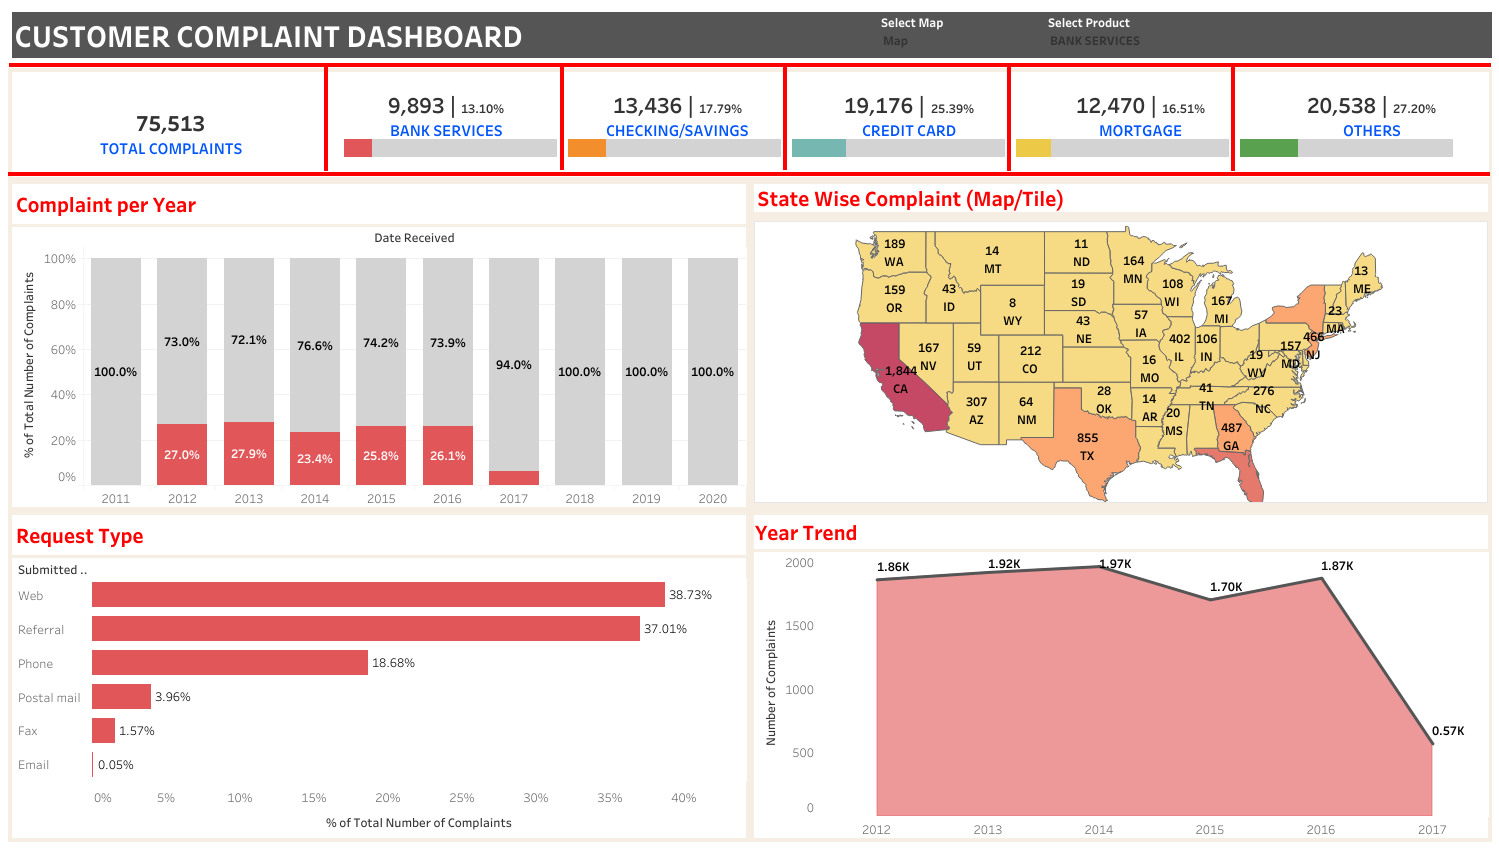

The dashboard page shown, as its layout file describes it:
{"tool":"tableau","page":{"name":"Dashboard 1","canvas":[1000,1000],"units":"permille","ordinal":0},"visuals":[{"type":"title","box":[5.3,9.4,989.3,63.5]},{"type":"parameter","param":"[Parameters].[Parameter 1]","box":[698.7,14.1,106.7,51.8]},{"type":"parameter","param":"[Parameters].[Parameter 2]","box":[587.3,15.3,106.7,51.8]},{"type":"blank","box":[5.3,72.9,989.3,7.1]},{"type":"blank","box":[373.3,74.1,2.7,125.9]},{"type":"blank","box":[522,74.1,2.7,125.9]},{"type":"blank","box":[216,75.3,2.7,125.9]},{"type":"blank","box":[671.3,75.3,2.7,125.9]},{"type":"blank","box":[820.7,75.3,2.7,125.9]},{"type":"worksheet","title":"Total KPI","mark":"Automatic","box":[5.3,80,215.4,131.9]},{"type":"worksheet","title":"KPI","mark":"Automatic","box":[220.7,80,774,131.9]},{"type":"worksheet","title":"% of Complaints","mark":"Bar","cols":["Calculation_1109855899227906052","Number of Complaints"],"box":[229.3,162.3,749.3,30.6]},{"type":"blank","box":[4.7,201.2,989.3,7.1]},{"type":"worksheet","title":"Complaint per Year","mark":"Bar","cols":["Date Received"],"box":[5.3,211.9,494.7,389.3]},{"type":"text","box":[500,211.9,494.7,41.2]},{"type":"worksheet","title":"Map All","mark":"Multipolygon","box":[500,253.1,494.7,1.2]},{"type":"worksheet","title":"Map Bank Services","mark":"Multipolygon","box":[500,254.2,494.7,1.2]},{"type":"worksheet","title":"Map Checking","mark":"Multipolygon","box":[500,255.4,494.7,1.2]},{"type":"worksheet","title":"Map Credit Card","mark":"Multipolygon","box":[500,256.6,494.7,342.2]},{"type":"worksheet","title":"Map Mortgage","mark":"Multipolygon","box":[500,598.8,494.7,1.2]},{"type":"worksheet","title":"Map Others","mark":"Multipolygon","box":[500,600,494.7,1.2]},{"type":"worksheet","title":"Request Type","mark":"Automatic","rows":["Submitted via"],"box":[5.3,601.2,494.7,389.4]},{"type":"worksheet","title":"Year Trend","mark":"Area","rows":["Number of Complaints","Number of Complaints"],"cols":["Date Received"],"box":[500,601.2,494.7,389.4]}]}

Visuals, with their boxes on the dashboard's canvas, which has no fixed pixel size, in thousandths of its width and height (x1, y1, x2, y2). These are canvas units, not pixel positions in the 1499x849 screenshot, which may show the page scaled, cropped or inside an application window:
title: (5, 9, 995, 73)
parameter: (699, 14, 805, 66)
parameter: (587, 15, 694, 67)
blank: (5, 73, 995, 80)
blank: (373, 74, 376, 200)
blank: (522, 74, 525, 200)
blank: (216, 75, 219, 201)
blank: (671, 75, 674, 201)
blank: (821, 75, 823, 201)
"Total KPI" worksheet: (5, 80, 221, 212)
"KPI" worksheet: (221, 80, 995, 212)
"% of Complaints" worksheet (Bar marks): (229, 162, 979, 193)
blank: (5, 201, 994, 208)
"Complaint per Year" worksheet (Bar marks): (5, 212, 500, 601)
text: (500, 212, 995, 253)
"Map All" worksheet (Multipolygon marks): (500, 253, 995, 254)
"Map Bank Services" worksheet (Multipolygon marks): (500, 254, 995, 255)
"Map Checking" worksheet (Multipolygon marks): (500, 255, 995, 257)
"Map Credit Card" worksheet (Multipolygon marks): (500, 257, 995, 599)
"Map Mortgage" worksheet (Multipolygon marks): (500, 599, 995, 600)
"Map Others" worksheet (Multipolygon marks): (500, 600, 995, 601)
"Request Type" worksheet: (5, 601, 500, 991)
"Year Trend" worksheet (Area marks): (500, 601, 995, 991)
